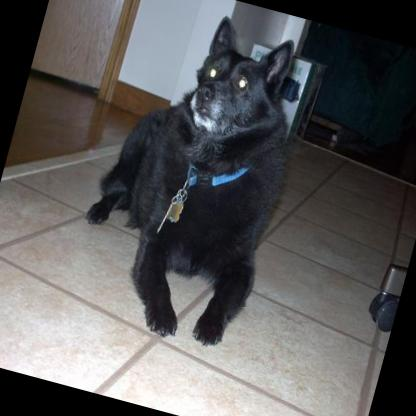schipperke: (55, 0, 322, 357)
